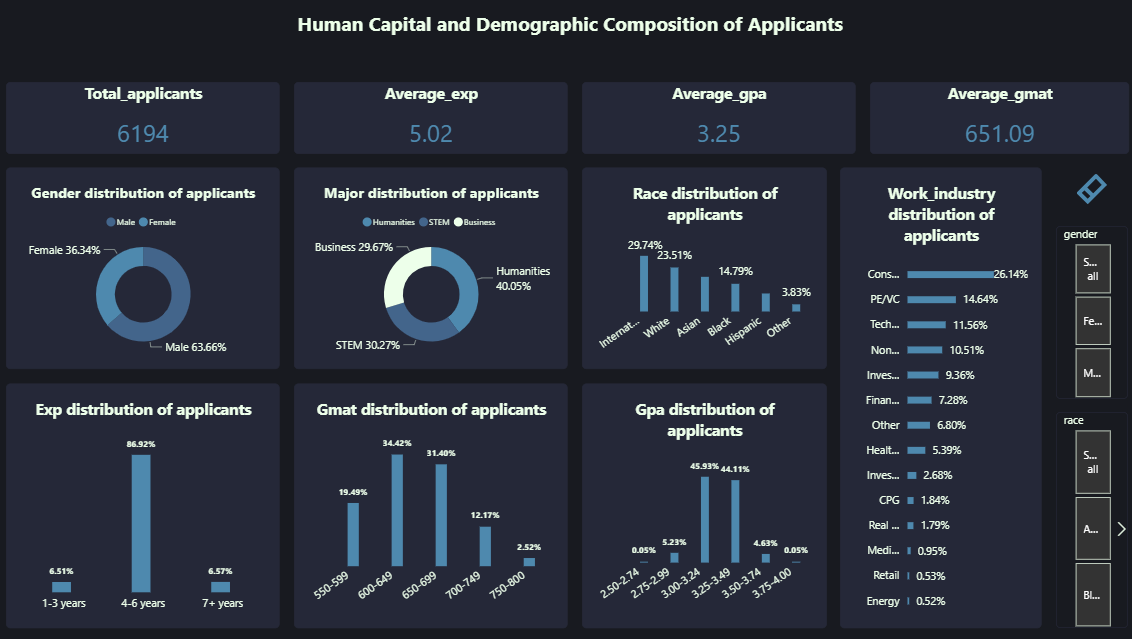

This screenshot's page, from the dashboard's own definition file:
{"tool":"powerbi","page":{"name":"Applicant Landscape","canvas":[1280,720],"ordinal":0},"visuals":[{"type":"slicer","fields":{"Values":["df.race"]},"box":[1184,464,80,240],"z":6000},{"type":"slicer","fields":{"Values":["df.gender"]},"box":[1184,256,80,192],"z":6125},{"type":"actionButton","box":[1184,192,80,48],"z":6250},{"type":"clusteredBarChart","title":"Work_industry distribution of applicants","fields":{"Category":["df.work_industry"],"Y":["df.Total_applicants"]},"box":[944,192,224,512],"z":6500},{"type":"clusteredColumnChart","title":"Gpa distribution of applicants","fields":{"Category":["df.gpa_group"],"Y":["df.Total_applicants"]},"box":[656,432,272,272],"z":7062},{"type":"clusteredColumnChart","title":"Gmat distribution of applicants","fields":{"Category":["df.gmat_group"],"Y":["df.Total_applicants"]},"box":[336,432,304,272],"z":7125},{"type":"clusteredColumnChart","title":"Exp distribution of applicants","fields":{"Y":["df.Total_applicants"],"Category":["df.work_exp_group"]},"box":[16,432,304,272],"z":7250},{"type":"columnChart","title":"Race distribution of applicants","fields":{"Category":["df.race"],"Y":["df.Total_applicants"]},"box":[656,192,272,224],"z":8000},{"type":"donutChart","title":"Major distribution of applicants","fields":{"Category":["df.major"],"Y":["df.Total_applicants"]},"box":[336,192,304,224],"z":9000},{"type":"donutChart","title":"Gender distribution of applicants","fields":{"Category":["df.gender"],"Y":["df.Total_applicants"]},"box":[16,192,304,224],"z":10000},{"type":"card","title":"Average_gmat","fields":{"Values":["df.Average_gmat"]},"box":[976,96,288,80],"z":11000},{"type":"card","title":"Average_gpa","fields":{"Values":["df.Average_gpa"]},"box":[656,96,304,80],"z":12000},{"type":"card","title":"Average_exp","fields":{"Values":["df.Average exp"]},"box":[336,96,304,80],"z":13000},{"type":"card","title":"Total_applicants","fields":{"Values":["df.Total_applicants"]},"box":[16,96,304,80],"z":14000},{"type":"textbox","box":[16,16,1248,48],"z":15000}]}

Visuals, with their boxes in screenshot pixels (x1, y1, x2, y2), scaled from the page's 1280x720 canvas onto the 1132x639 screenshot:
slicer - df.race: [1047,412,1118,625]
slicer - df.gender: [1047,227,1118,398]
actionButton: [1047,170,1118,213]
"Work_industry distribution of applicants" clusteredBarChart: [835,170,1033,625]
"Gpa distribution of applicants" clusteredColumnChart: [580,383,821,625]
"Gmat distribution of applicants" clusteredColumnChart: [297,383,566,625]
"Exp distribution of applicants" clusteredColumnChart: [14,383,283,625]
"Race distribution of applicants" columnChart: [580,170,821,369]
"Major distribution of applicants" donutChart: [297,170,566,369]
"Gender distribution of applicants" donutChart: [14,170,283,369]
"Average_gmat" card: [863,85,1118,156]
"Average_gpa" card: [580,85,849,156]
"Average_exp" card: [297,85,566,156]
"Total_applicants" card: [14,85,283,156]
textbox: [14,14,1118,57]
